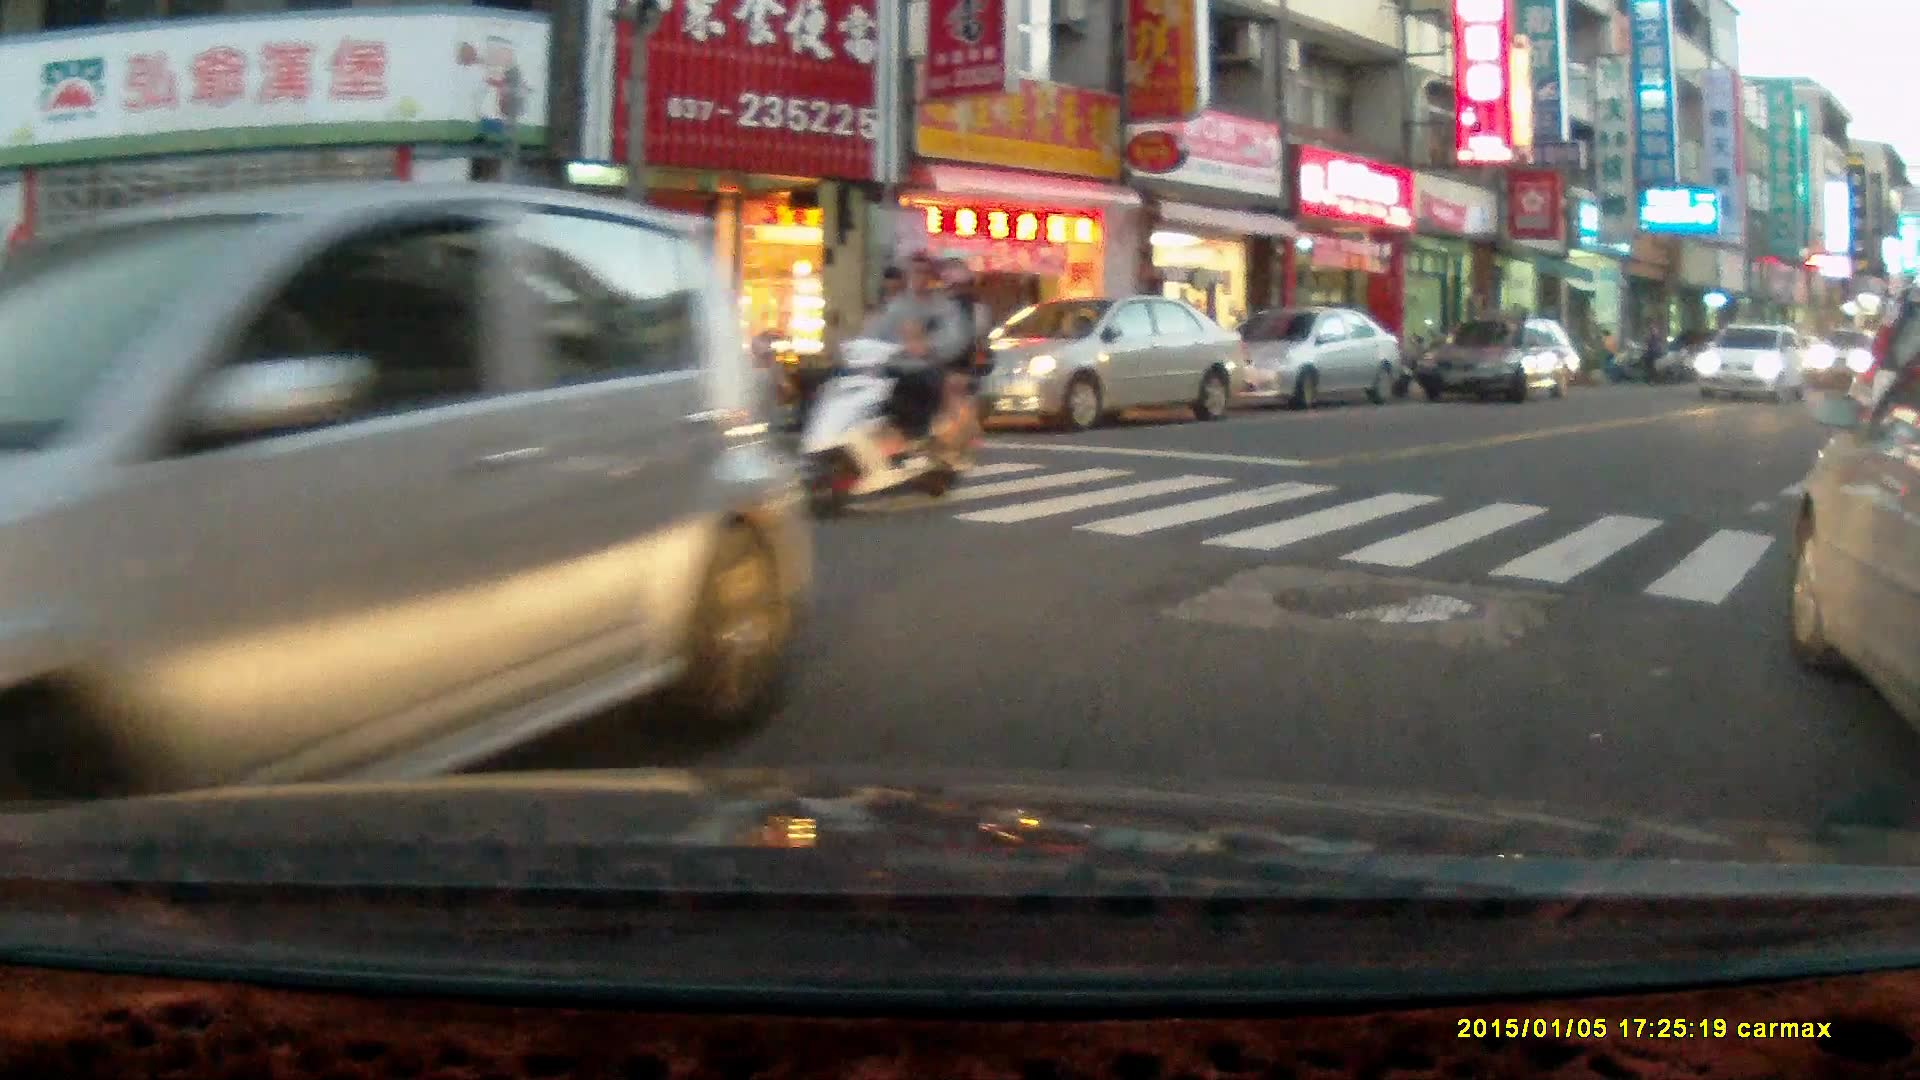rider: (794, 242, 979, 521)
vehicle: (1, 174, 821, 846), (1783, 350, 1920, 731), (945, 293, 1254, 427), (1210, 308, 1406, 406), (1418, 314, 1583, 410), (1694, 322, 1814, 400)
